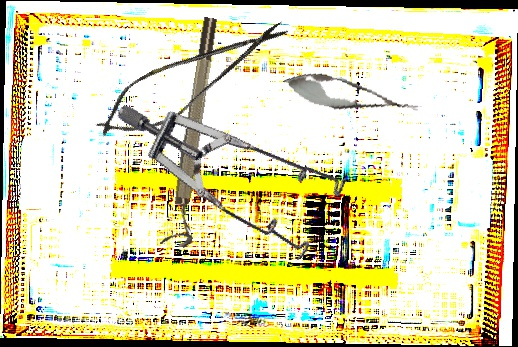Fixation Ring: (160, 16, 231, 249)
Micro Scissor: (84, 1, 299, 155), (280, 65, 422, 126)
Speculum: (114, 28, 371, 303)
